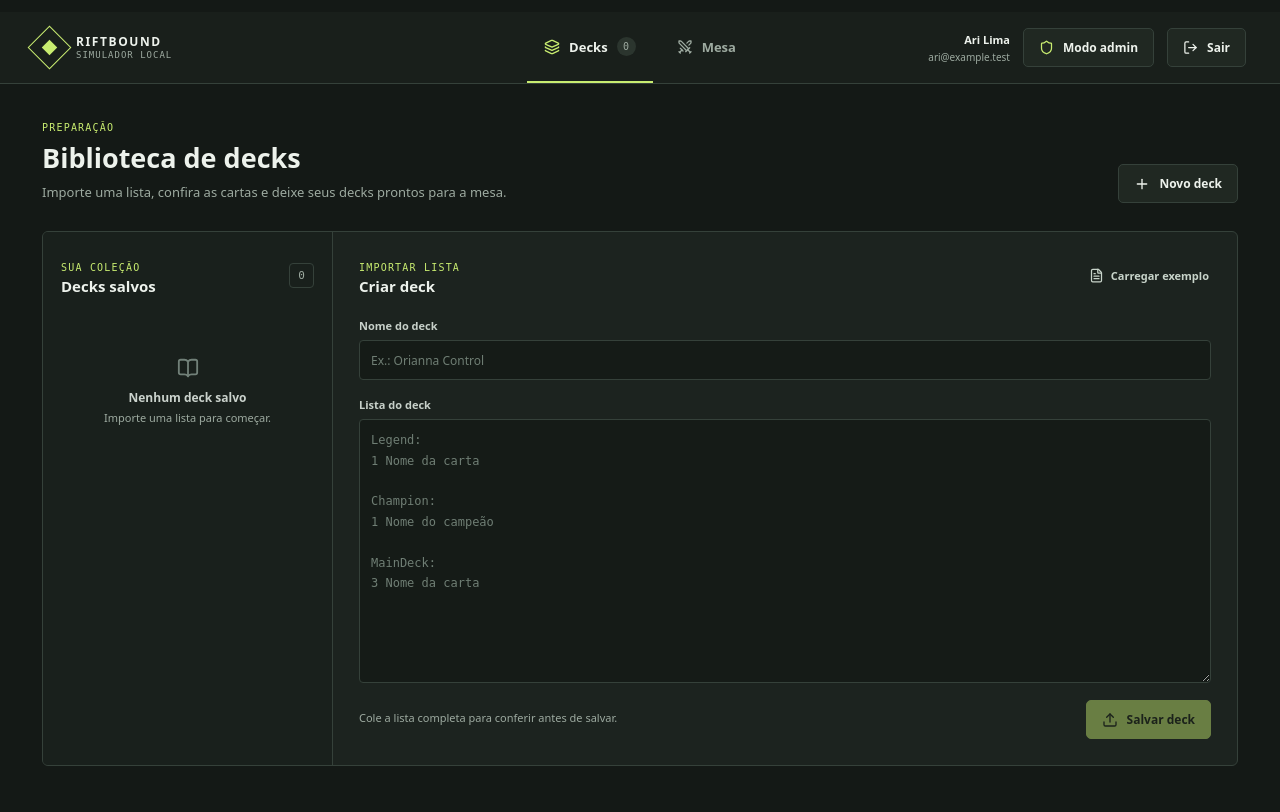
Scenario: authenticated simulator app › lets an admin switch to the add-cards screen and back
This screenshot has width=1280, height=812.
Click the button "Modo admin": (1089, 48) 1023,28 -> 1154,67
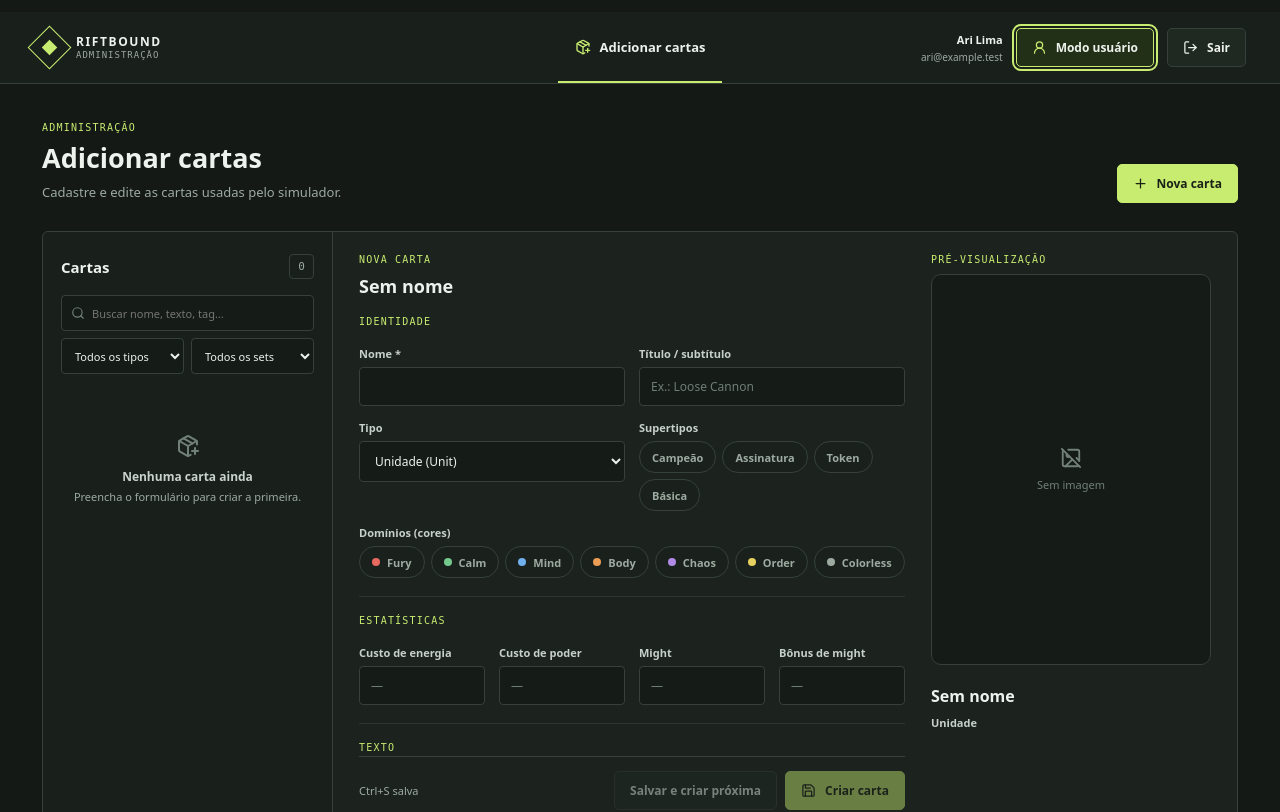
Expected: the heading "Adicionar cartas" is shown, 42,139 -> 262,176
Expected: the tab "Decks" is gone
Click the button "Modo usuário": (1085, 48) 1016,28 -> 1154,67
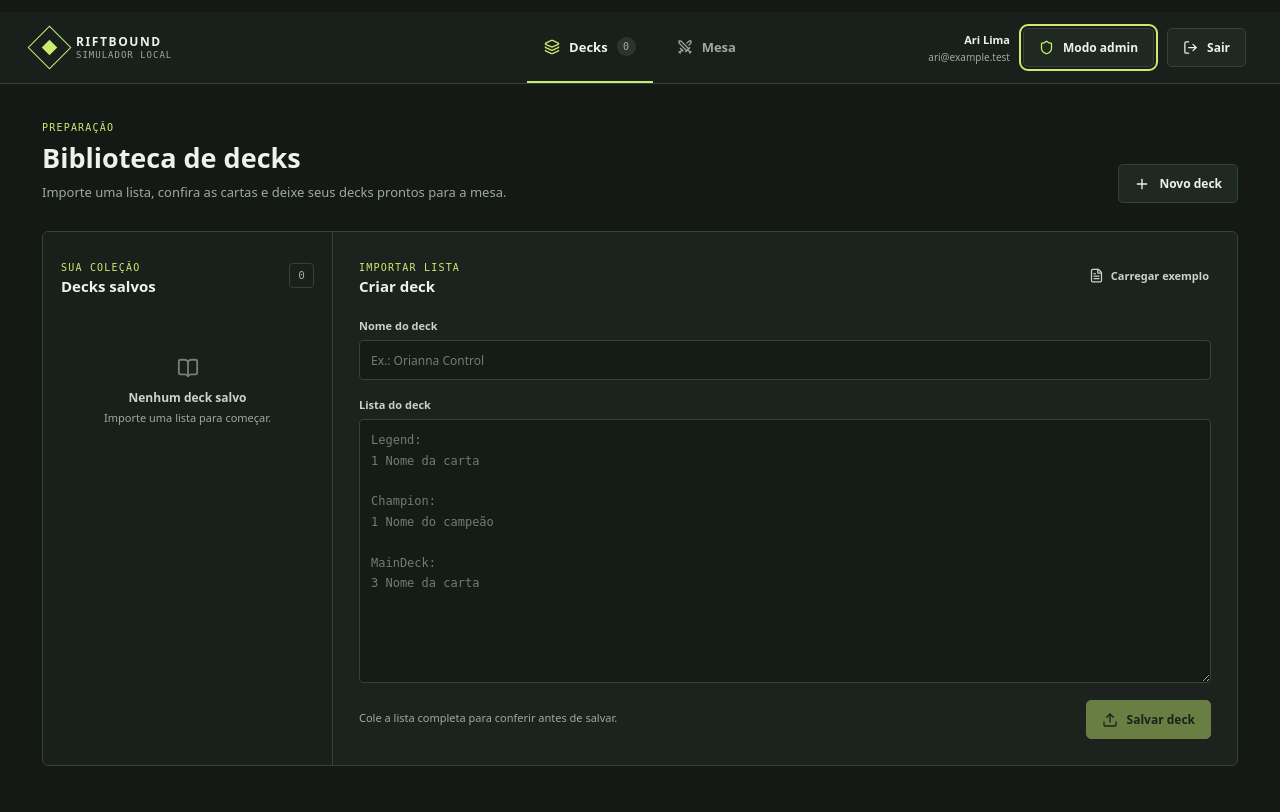
Expected: the tab "Adicionar cartas" is gone
Expected: the tab "Decks 0" is shown, 527,12 -> 653,83
